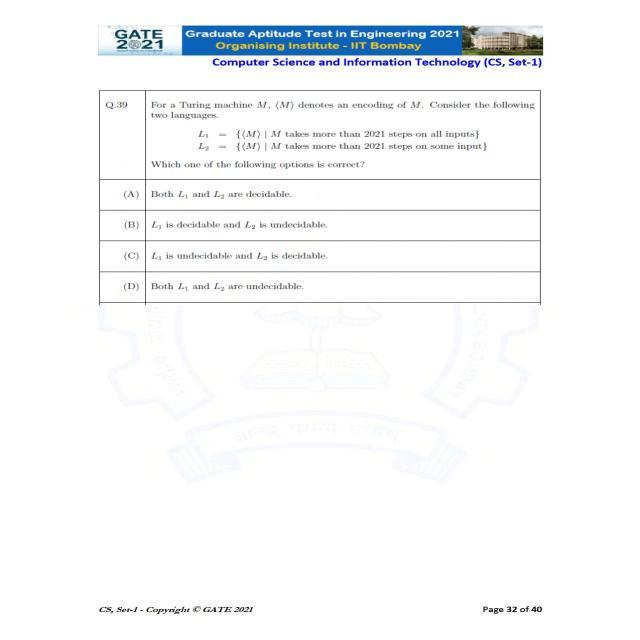Answer_Block: (57, 180, 575, 340)
Question_Answer_Block: (57, 80, 575, 341)
Question_Block: (57, 80, 575, 179)
Question_Paper_Area: (57, 80, 575, 341)
